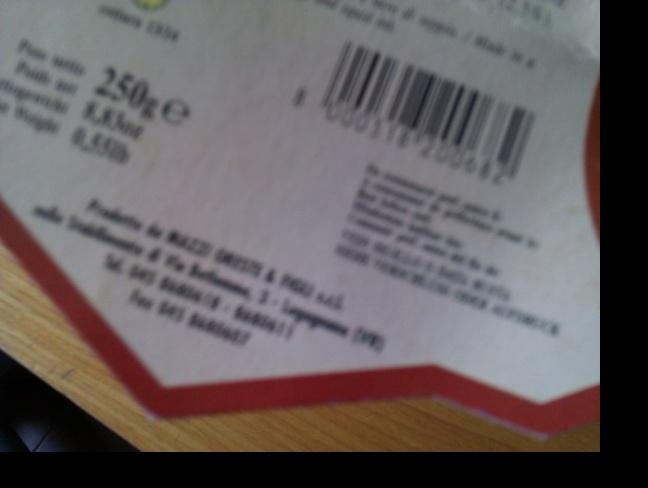Barcode: (285, 36, 542, 193)
